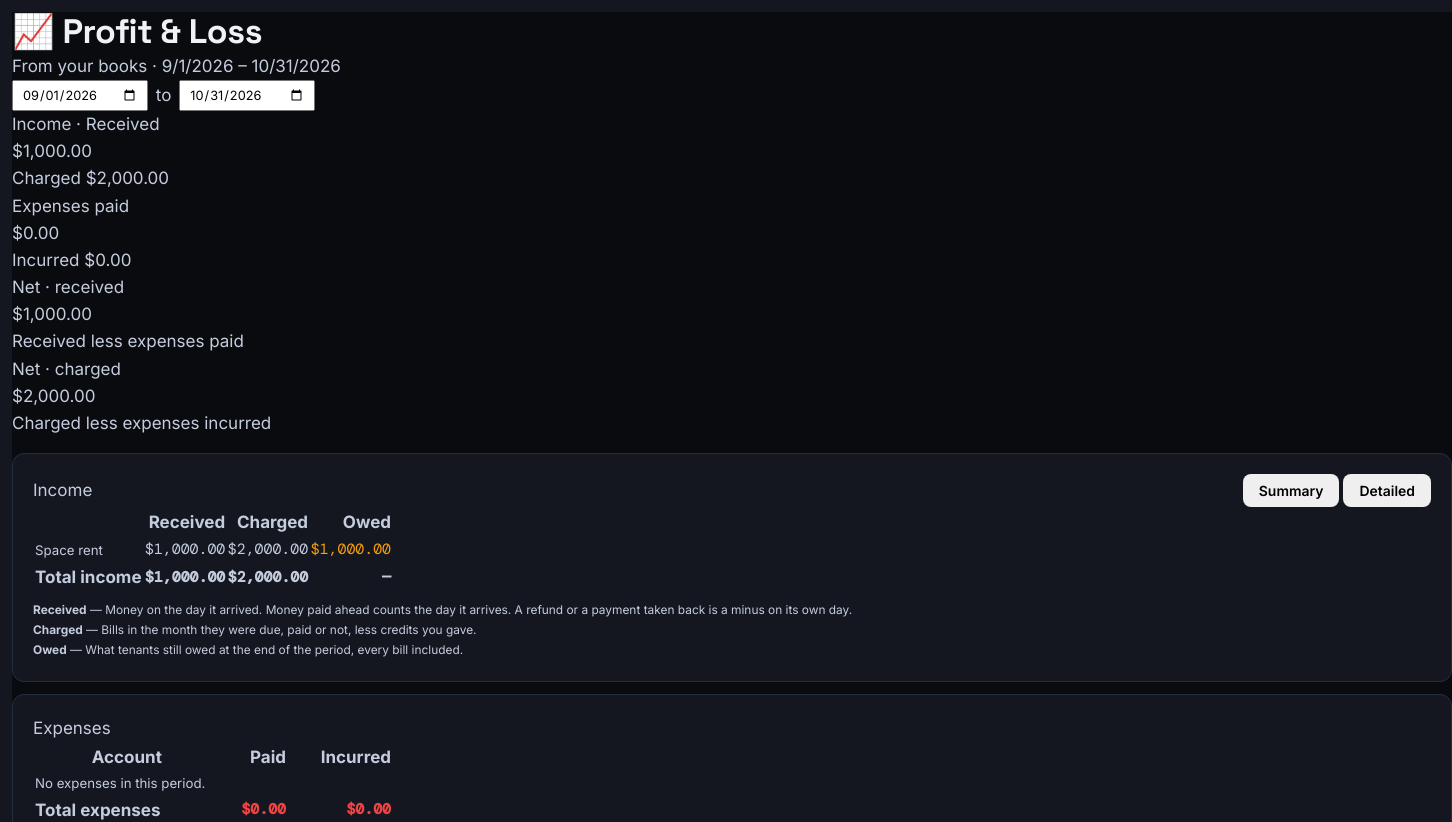
the P&L income: Summary / Detailed (10/14, Nic I1) › Summary first; Detailed lists each line and the subtype beneath it
Check: the text "Mobile home lot rent" is not shown
Click the button "Detailed".
click(1387, 491)  # box [1344, 474, 1431, 507]
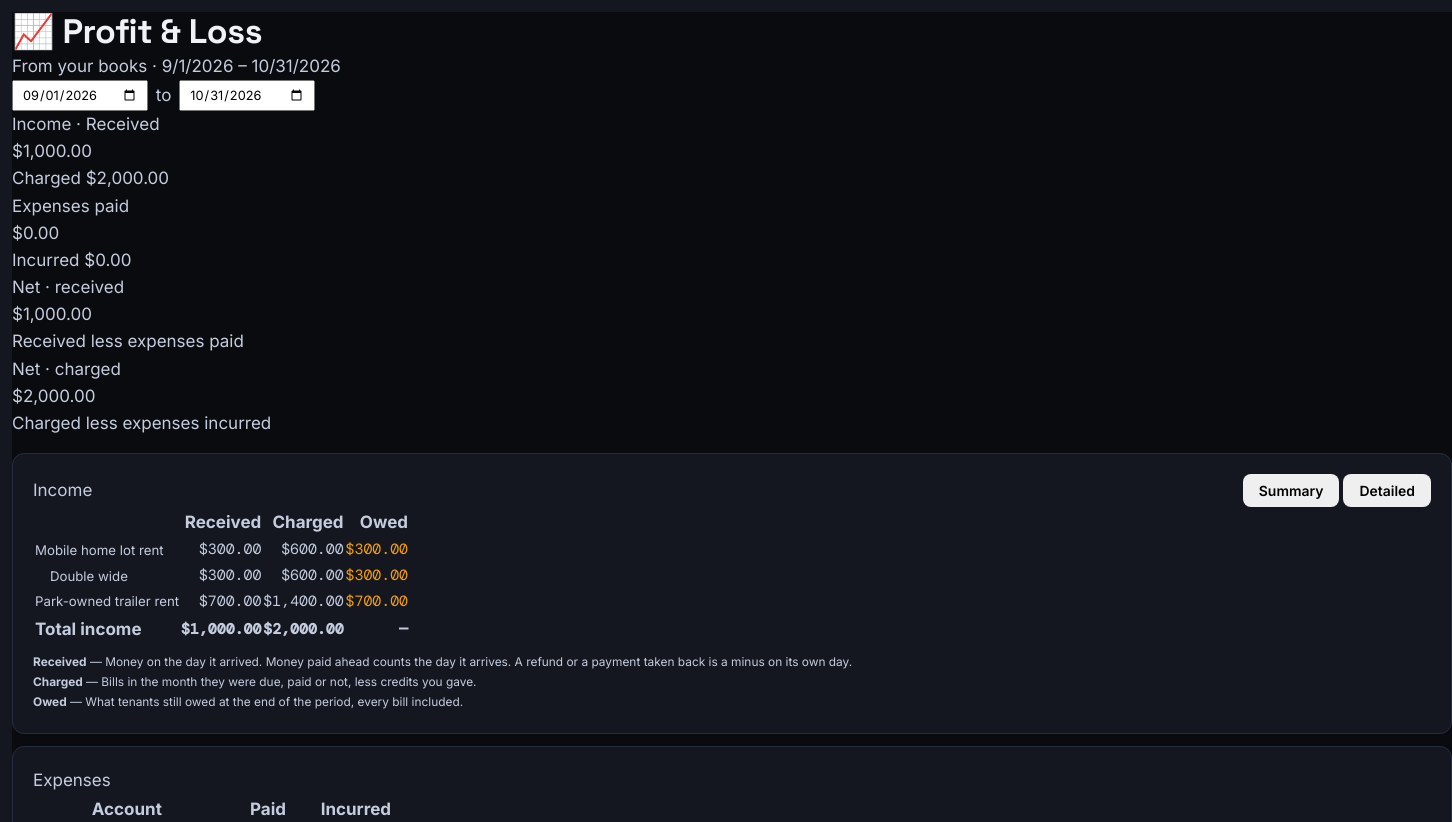
Check: the text "Mobile home lot rent" is shown, box [35, 538, 179, 562]
Check: the text "Park-owned trailer rent" is shown, box [35, 590, 179, 614]
Check: the text "Double wide" is shown, box [35, 564, 179, 588]
